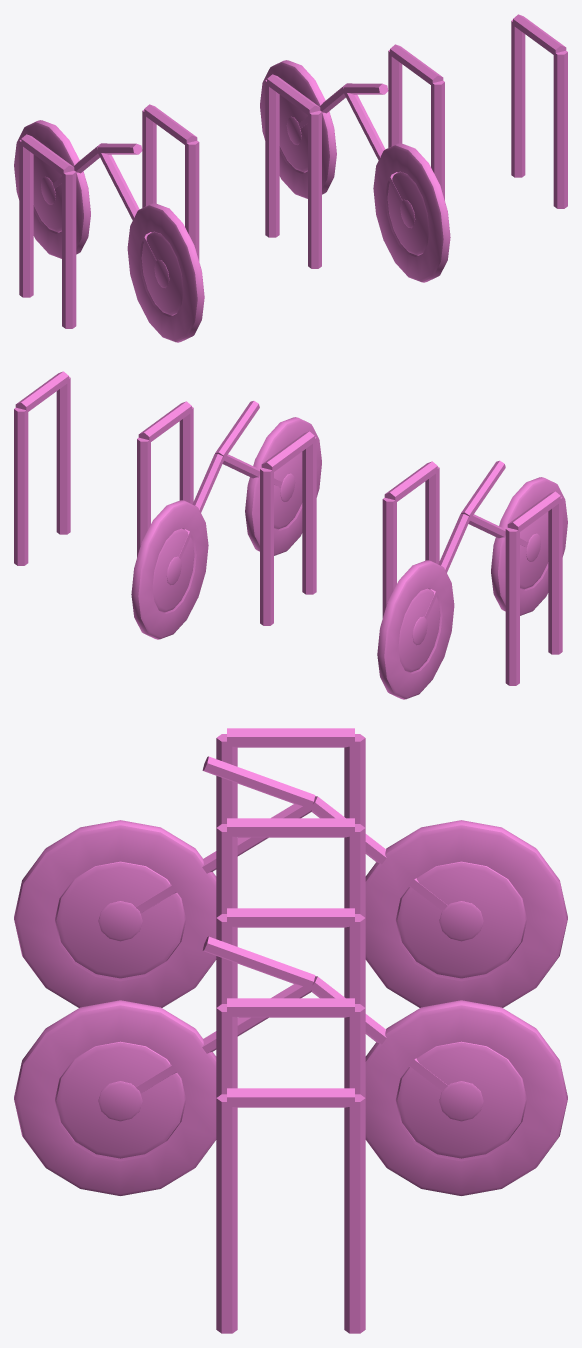
The model's file is Street_BikeRack.fbx.
3 renders of one model, top to bottom at view 1: azimuth 30°, elevation 25°; view 2: azimuth 150°, elevation 25°; view 3: azimuth 270°, elevation 25°, orthographic. The views are drawn at different scales.
Visible parts, largest first — view 1: BikeRack; view 2: BikeRack; view 3: BikeRack.
Part boxes in pixels (x1,y1,x2,y2): BikeRack: (14, 14, 567, 342); BikeRack: (14, 371, 567, 699); BikeRack: (14, 728, 567, 1333).
Size of the model in its own units: 8.17 by 2.67 by 5.2.
Materials: 1 (1 with a texture image).
